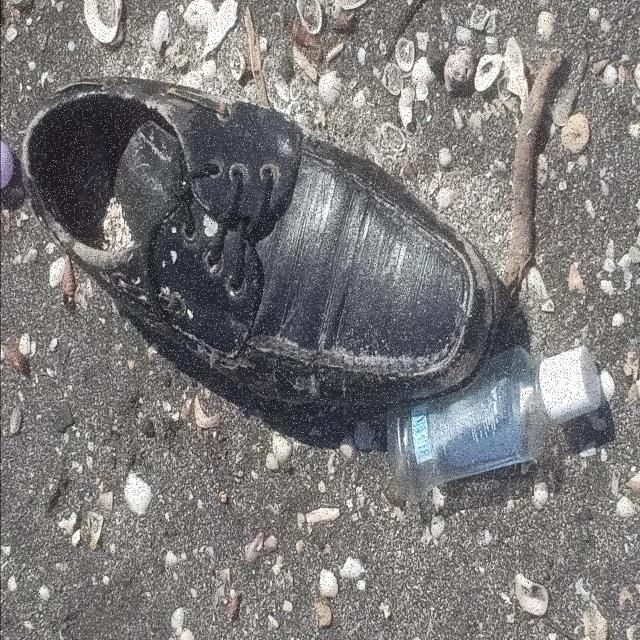plastic_waste: (385, 342, 603, 505)
rubber_waste: (20, 76, 503, 414)
